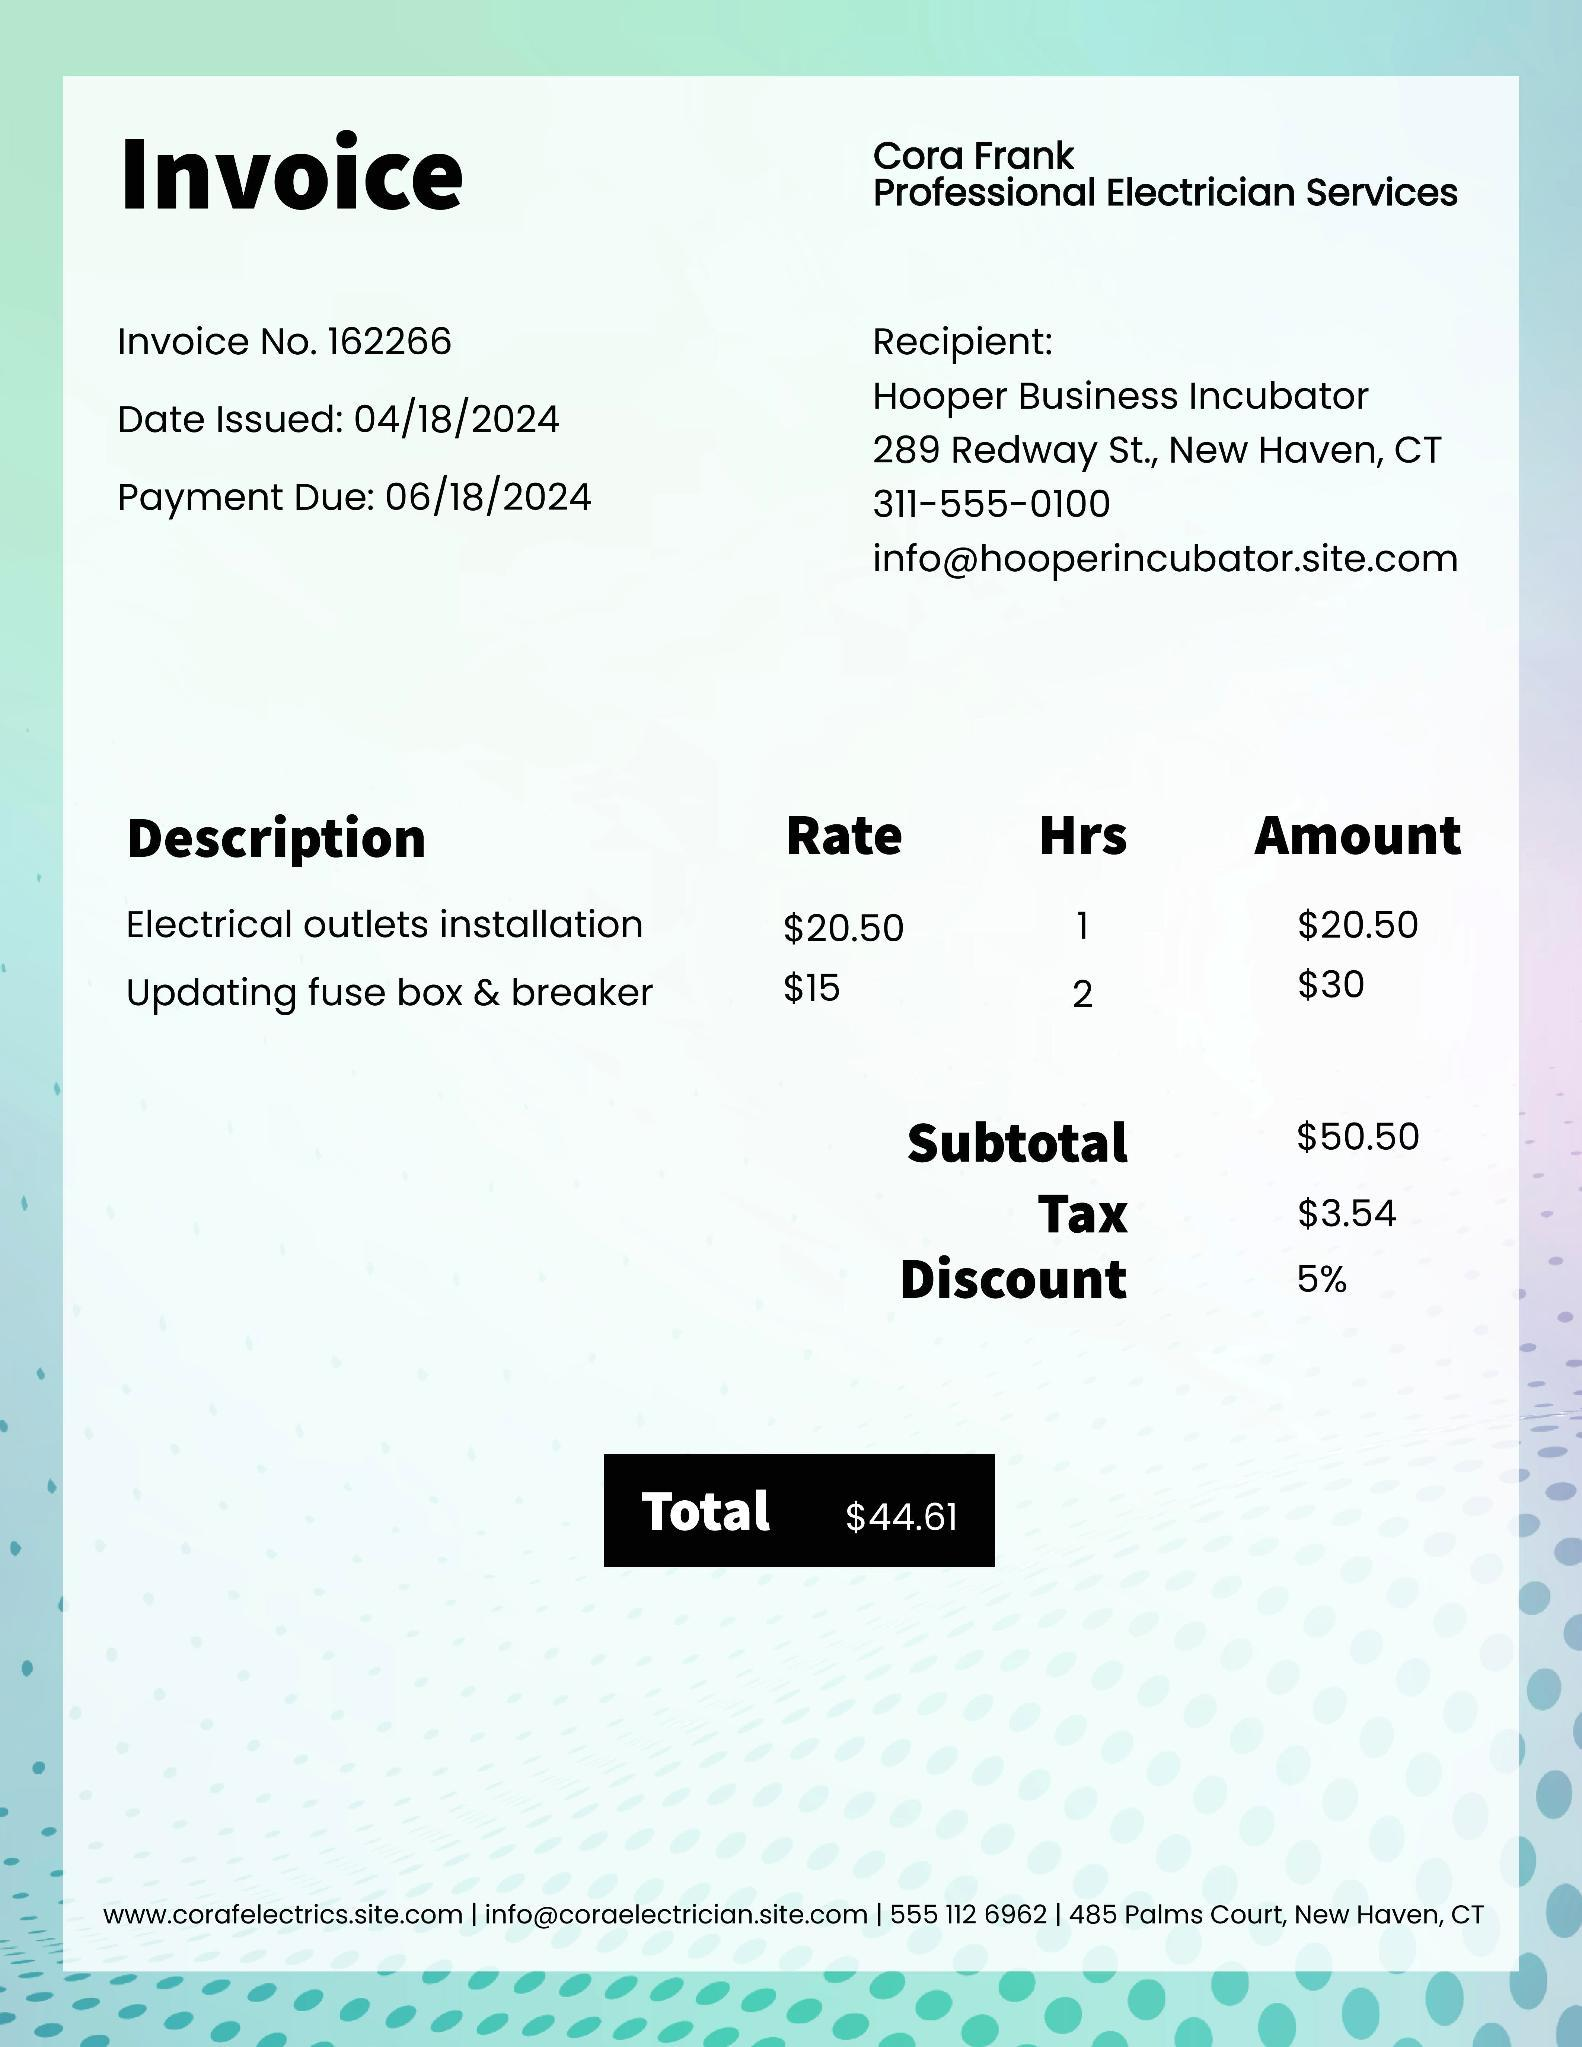ROI: (71, 788, 1494, 1020), (839, 322, 1511, 610), (862, 1088, 1461, 1329), (70, 301, 638, 533), (70, 1884, 1506, 1966), (839, 110, 1487, 239), (593, 1446, 995, 1578), (95, 113, 489, 228)
